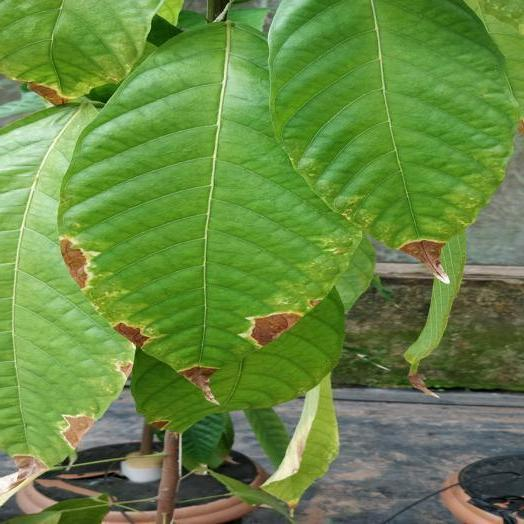Potassium: (58, 22, 348, 402), (270, 0, 516, 281), (0, 103, 134, 498)
